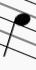note: (1, 1, 32, 63)
